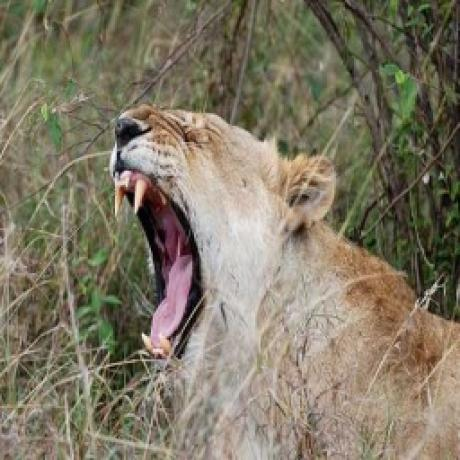Lion: (108, 102, 460, 460)
